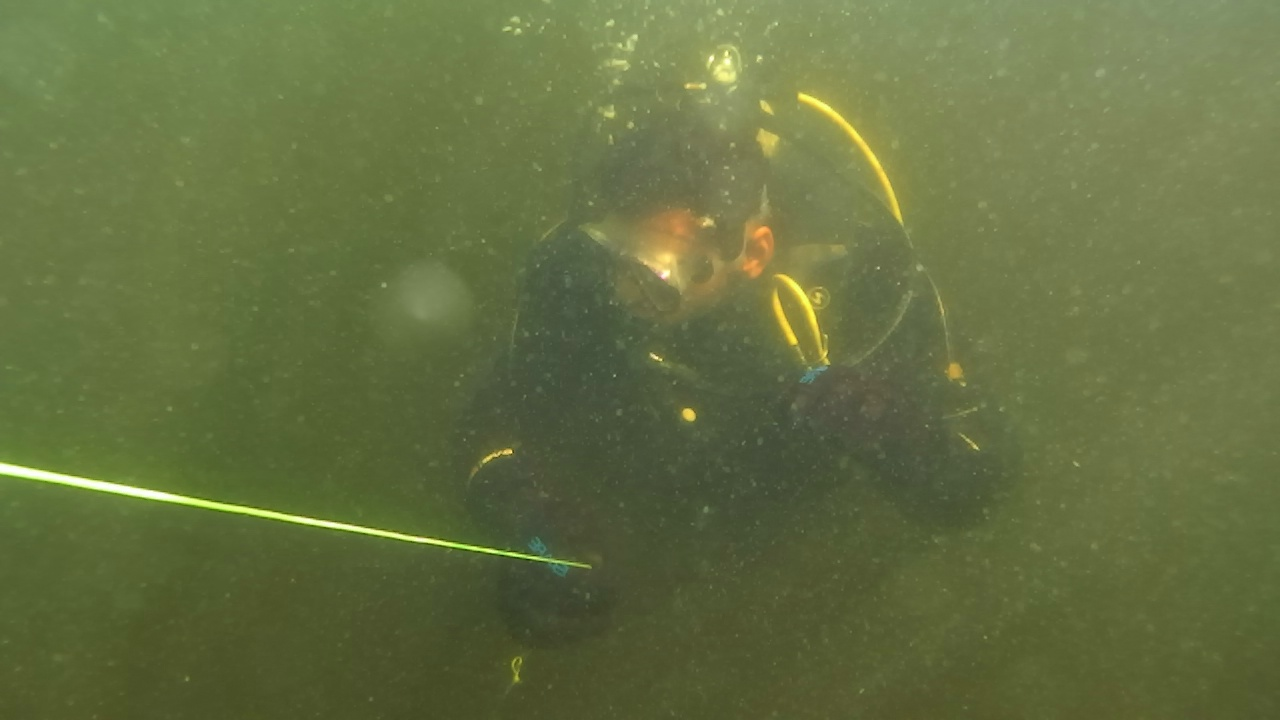Diver: (432, 90, 1012, 642)
Hand: (440, 482, 644, 630)
Head: (560, 122, 804, 332)
